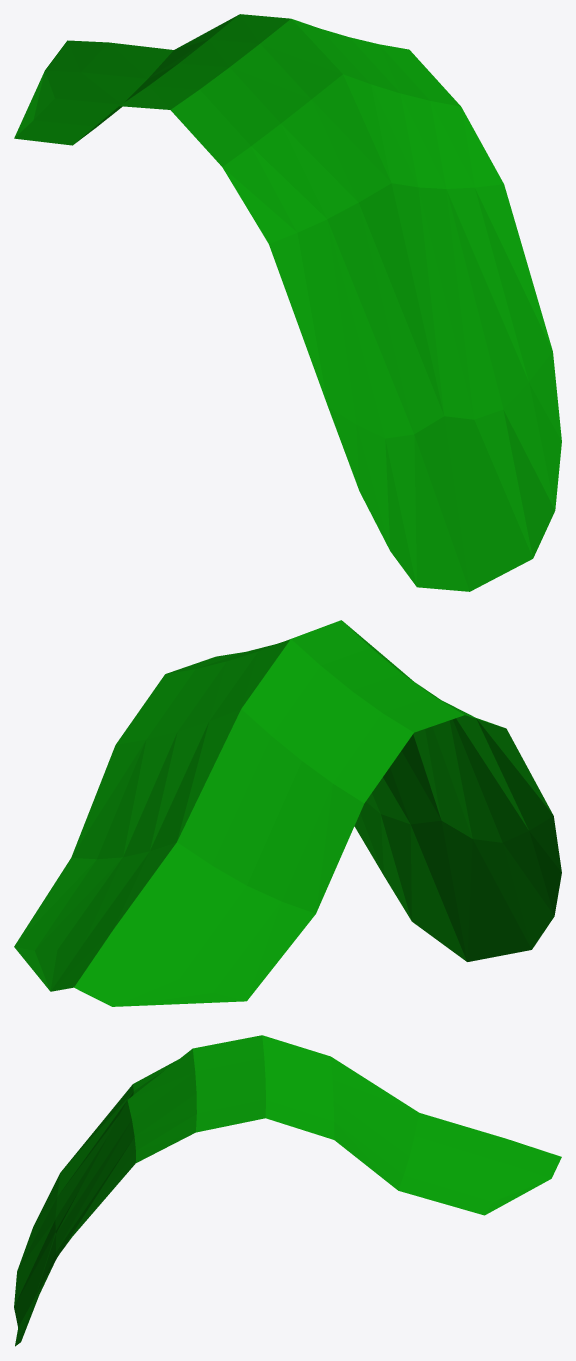
Rendered from Vegetation_Modular_New_Palm_Leaf_02.FBX.
3 renders of one model, top to bottom at view 1: azimuth 30°, elevation 25°; view 2: azimuth 150°, elevation 25°; view 3: azimuth 270°, elevation 25°, orthographic. The views are drawn at different scales.
Parts seen in each view (by area): view 1: Vegetation_Modular_New_Palm_Leaf_02; view 2: Vegetation_Modular_New_Palm_Leaf_02; view 3: Vegetation_Modular_New_Palm_Leaf_02.
Boxes of the visible parts, left/top/right/bottom form: Vegetation_Modular_New_Palm_Leaf_02: left=14, top=14, right=561, bottom=591; Vegetation_Modular_New_Palm_Leaf_02: left=14, top=620, right=561, bottom=1006; Vegetation_Modular_New_Palm_Leaf_02: left=14, top=1035, right=561, bottom=1346.
Bounding box in the file's own units: 505 × 883 × 1432.
